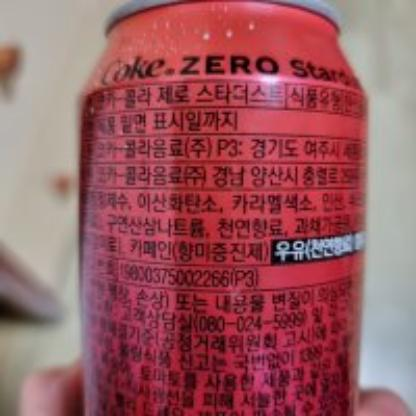Can: (75, 2, 363, 416)
